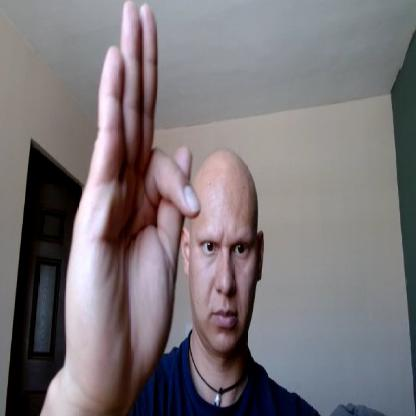F: (65, 3, 202, 397)
